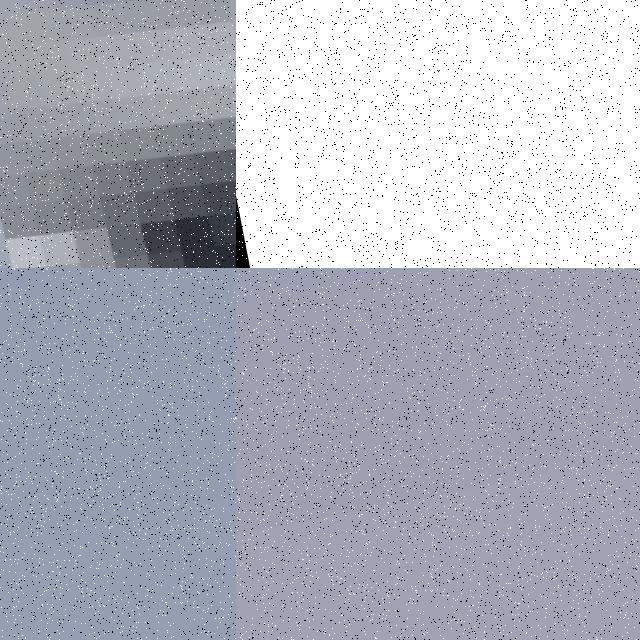drone: (0, 0, 236, 268)
